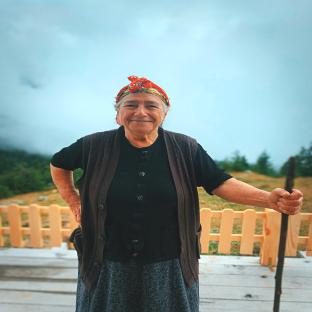Human: (51, 76, 303, 312)
